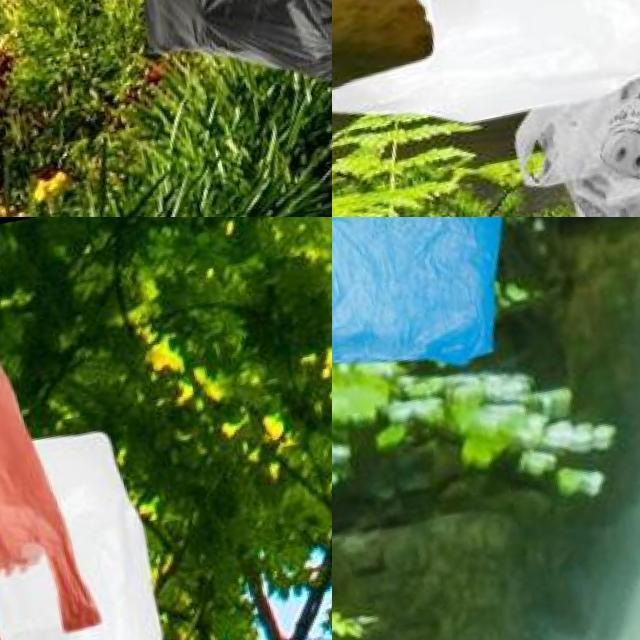waste: (332, 0, 640, 156), (0, 411, 188, 640), (0, 297, 110, 640), (332, 217, 532, 404), (107, 0, 332, 113), (507, 72, 640, 217)
